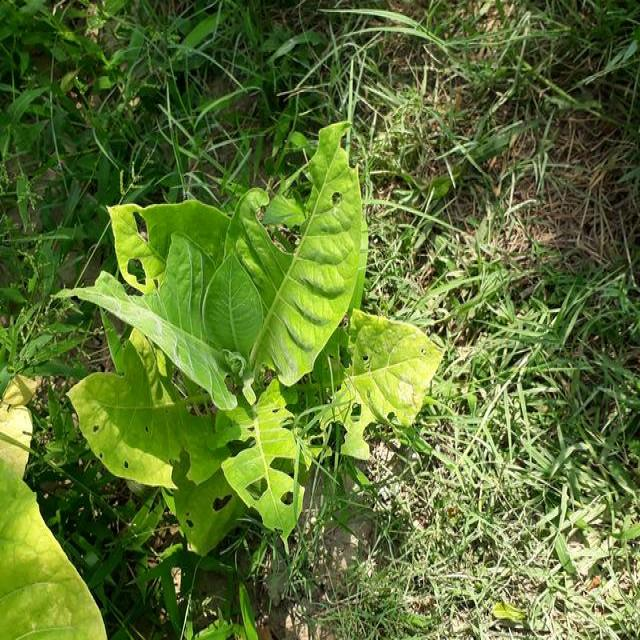crop: (83, 131, 440, 529), (0, 373, 110, 640)
